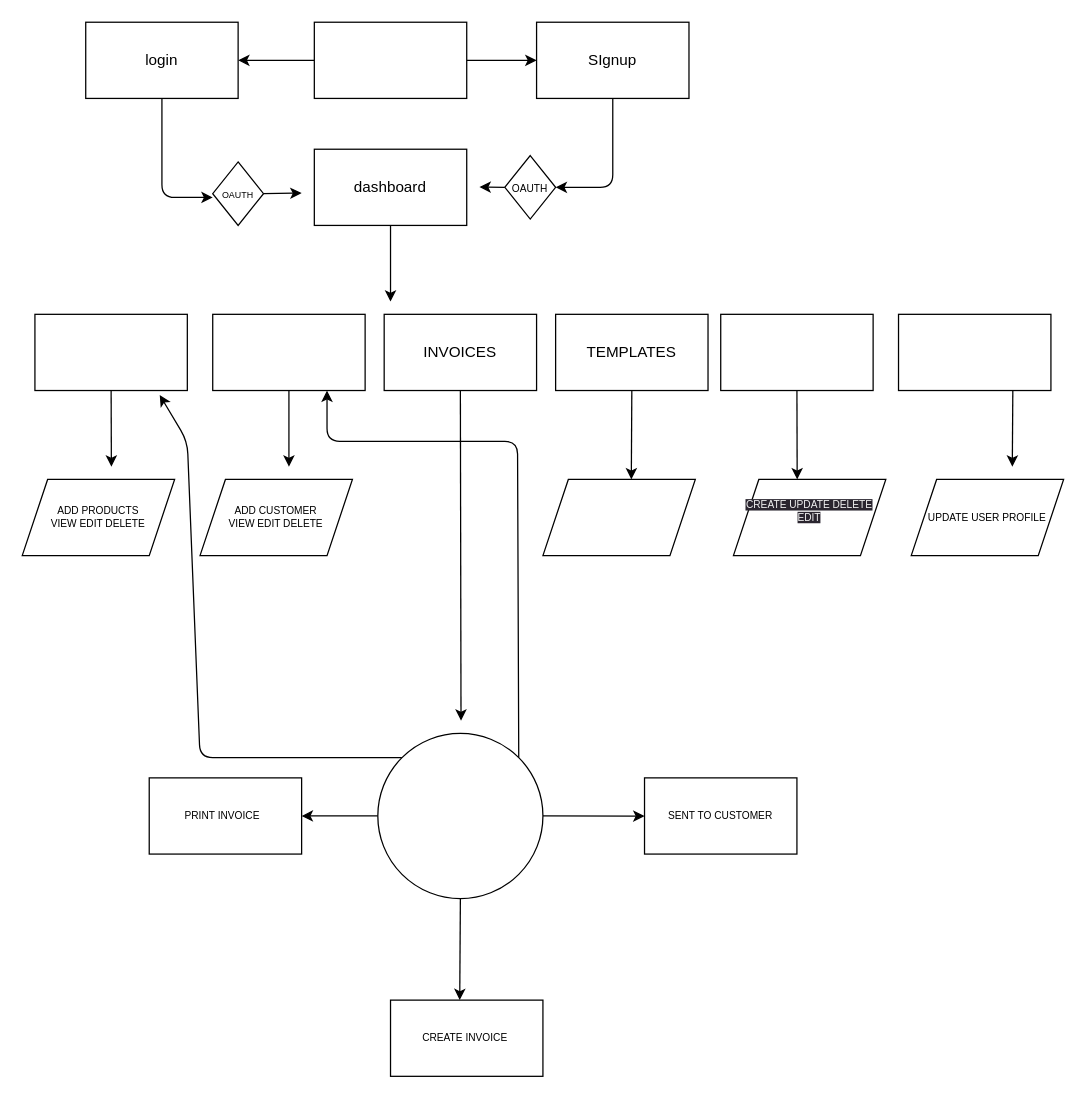
The diagram is 1086 pixels wide and 1099 high, and some of its shapes have lost their labels. The box of each missing label's shape, as (x1, y1, x2, y2) in pixels:
CHANGE TEMPLATE/ VIEW EDIT: (542, 478, 695, 556)
CUSTOMER: (211, 313, 365, 391)
ESTIMATES: (719, 313, 873, 391)
Home page: (313, 21, 467, 98)
INVOICE CREATE , UPDATE DELETE SEND PRINT DOWNLOAD: (377, 732, 543, 899)
PRODUCTS: (34, 313, 187, 391)
SETTINGS UPDATE PROFILE: (897, 313, 1051, 391)
